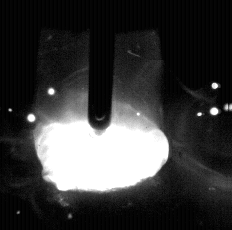arame: (88, 0, 114, 134)
poca: (34, 0, 169, 230)
